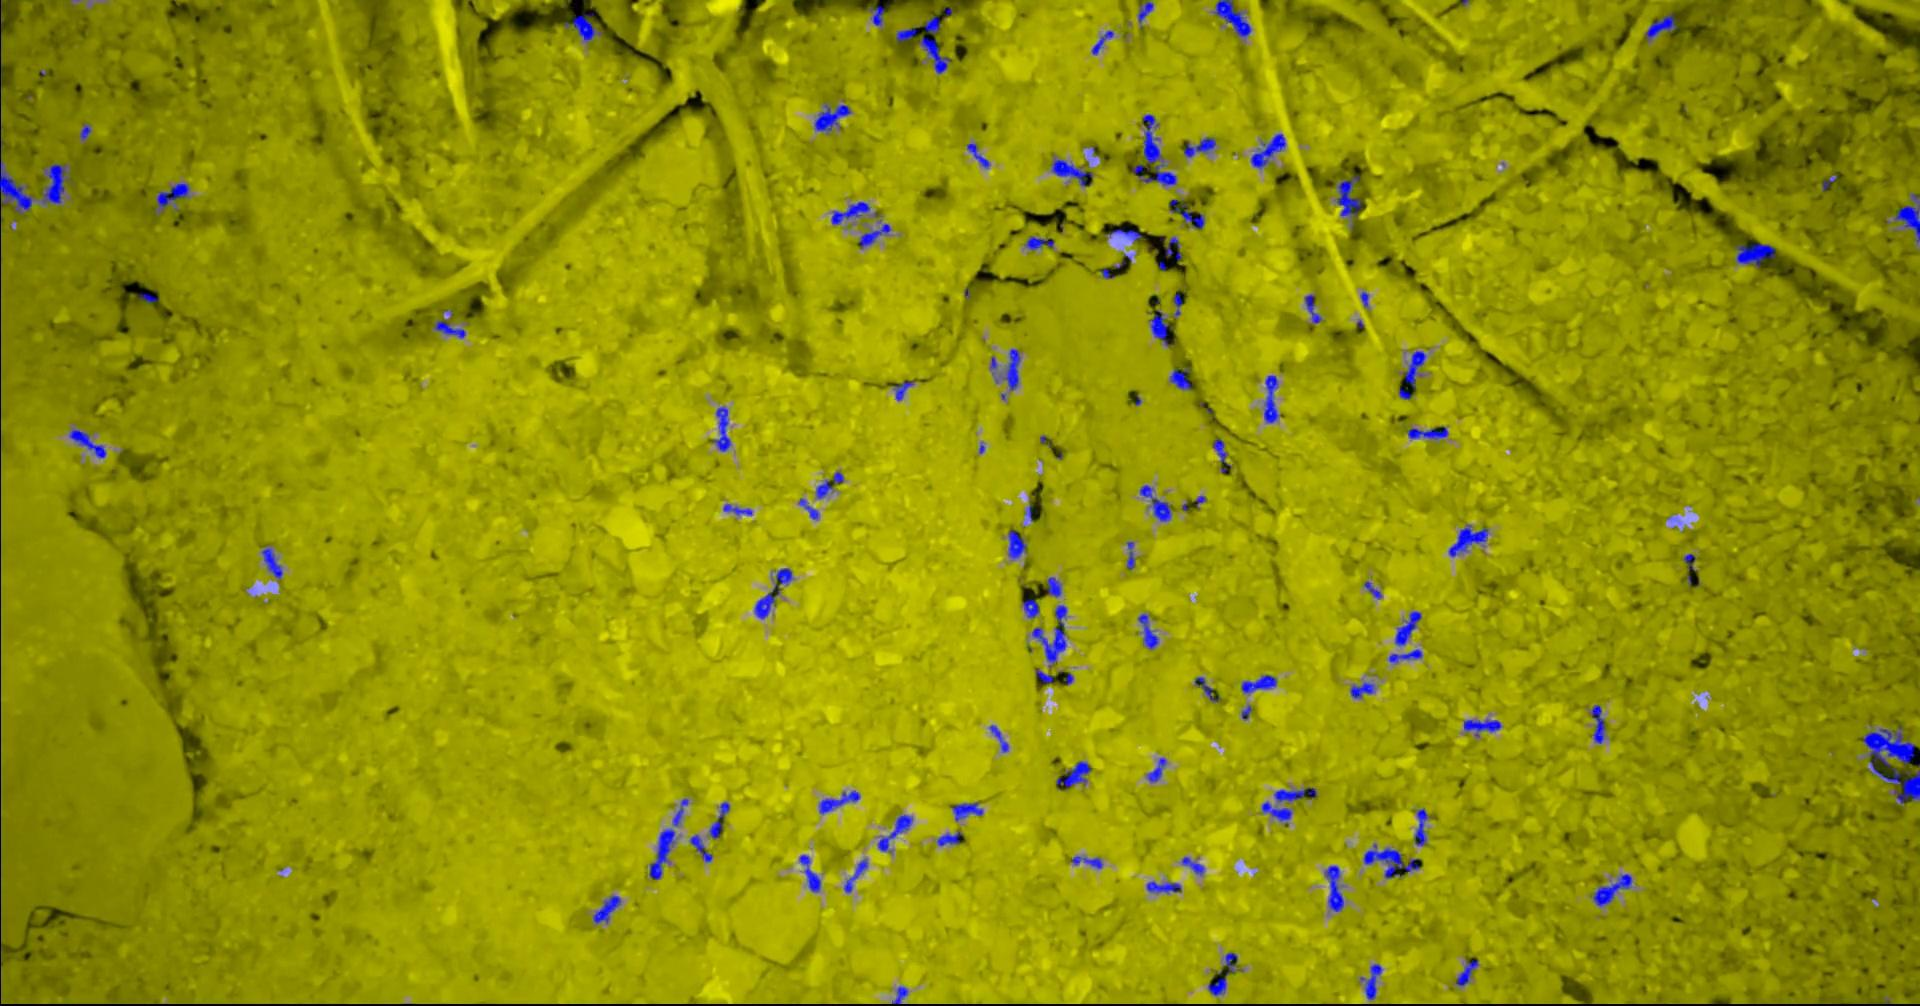ant: (1131, 114, 1176, 185), (649, 798, 687, 879), (0, 124, 30, 213), (1031, 605, 1065, 663), (754, 567, 792, 619), (1363, 843, 1418, 878), (918, 17, 951, 72), (1213, 0, 1250, 36), (877, 814, 912, 851), (1208, 951, 1237, 995), (1592, 873, 1630, 906), (1448, 525, 1487, 556), (1895, 192, 1919, 243), (1250, 133, 1285, 168), (1139, 484, 1171, 521), (1051, 158, 1092, 185), (1336, 175, 1363, 216), (564, 11, 601, 41), (69, 429, 105, 457), (41, 163, 65, 203), (1170, 199, 1204, 227), (814, 104, 850, 131), (818, 790, 858, 813), (1736, 243, 1774, 267), (1394, 611, 1421, 645), (830, 201, 869, 224), (1055, 761, 1090, 786), (1324, 865, 1343, 911), (1644, 13, 1676, 39), (711, 406, 730, 451), (843, 857, 867, 892), (999, 348, 1020, 389), (1359, 963, 1382, 998), (156, 183, 188, 208), (799, 854, 820, 890), (1149, 310, 1171, 345), (858, 224, 890, 248), (1404, 351, 1425, 387), (709, 801, 729, 838), (815, 471, 843, 498), (593, 895, 620, 923), (1137, 614, 1158, 648), (1239, 674, 1276, 694), (1194, 676, 1220, 701), (1261, 801, 1291, 823), (1263, 375, 1277, 422), (1183, 137, 1215, 158), (1463, 719, 1501, 735), (262, 547, 282, 578), (1272, 788, 1316, 801), (690, 835, 711, 862), (951, 801, 982, 821), (1407, 426, 1448, 439), (433, 320, 465, 338), (966, 144, 989, 168), (1591, 704, 1605, 743), (1457, 959, 1478, 984), (989, 724, 1008, 752), (1091, 30, 1112, 55), (1008, 528, 1026, 558), (1387, 648, 1422, 662), (1145, 757, 1166, 781), (1304, 293, 1321, 323), (1415, 808, 1427, 845), (1170, 367, 1191, 389), (1106, 227, 1142, 240), (797, 498, 818, 520), (893, 380, 913, 400), (1023, 236, 1053, 250), (1145, 882, 1181, 893), (1350, 682, 1374, 699), (936, 829, 961, 845), (866, 4, 884, 25), (1181, 856, 1203, 874), (1070, 856, 1102, 868), (1137, 0, 1153, 22), (1164, 238, 1180, 260), (1363, 580, 1382, 598), (1211, 438, 1225, 462), (723, 503, 750, 514), (891, 984, 907, 1005), (1022, 598, 1037, 617), (895, 27, 916, 41), (1048, 577, 1062, 596), (1683, 553, 1697, 570), (1035, 668, 1053, 682), (138, 292, 157, 304), (1126, 541, 1134, 569), (1173, 292, 1182, 315), (79, 124, 90, 138)
